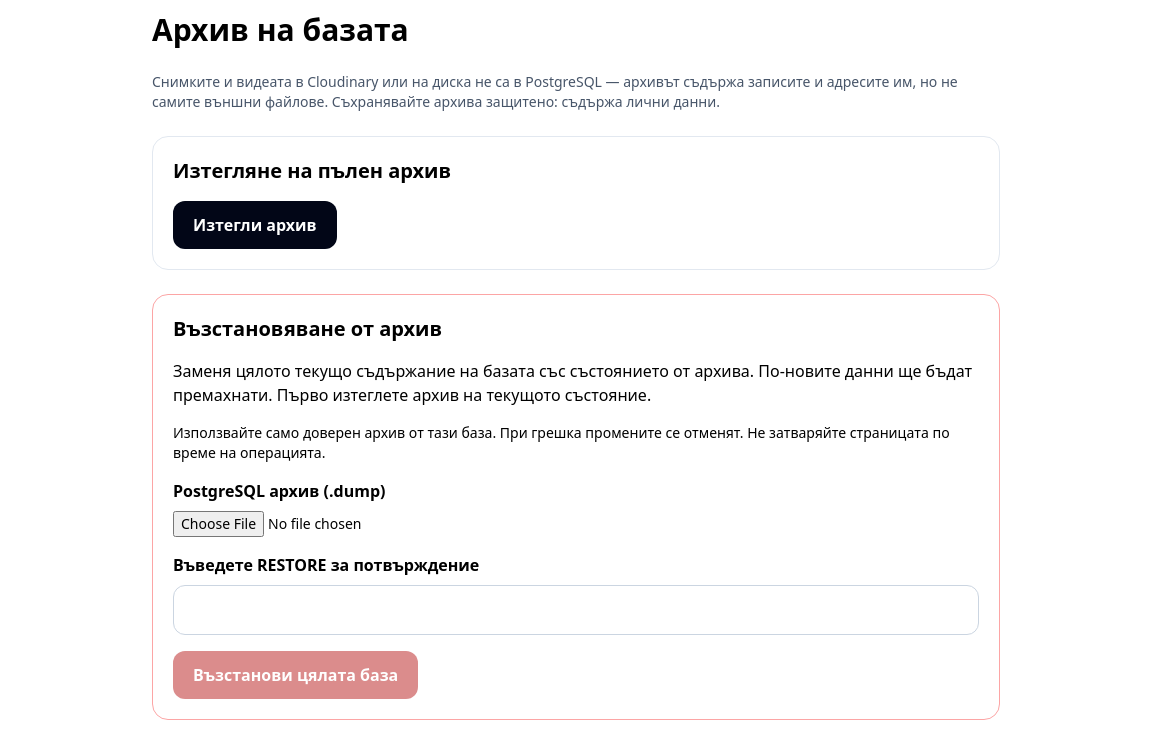
Test case: shows a failed export without claiming success
Click the button "Изтегли архив" at (255, 225), box [173, 201, 337, 249]
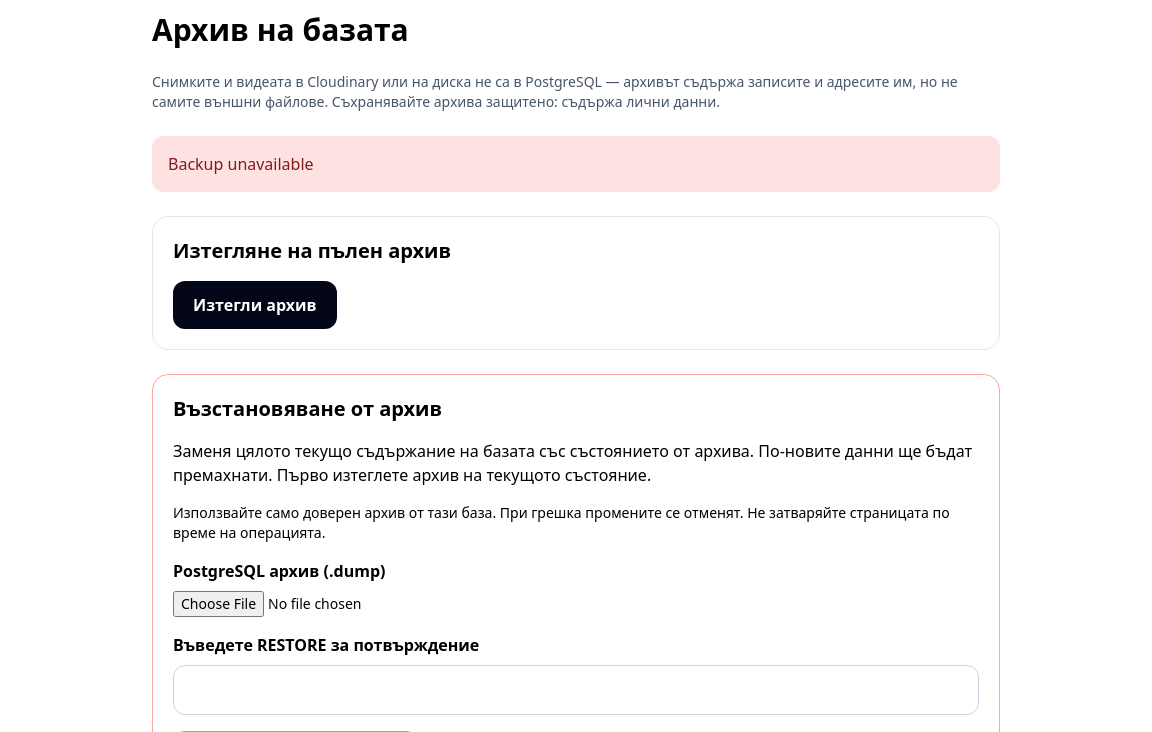
Expected: the message reads "Backup unavailable", [168, 153, 314, 175]
